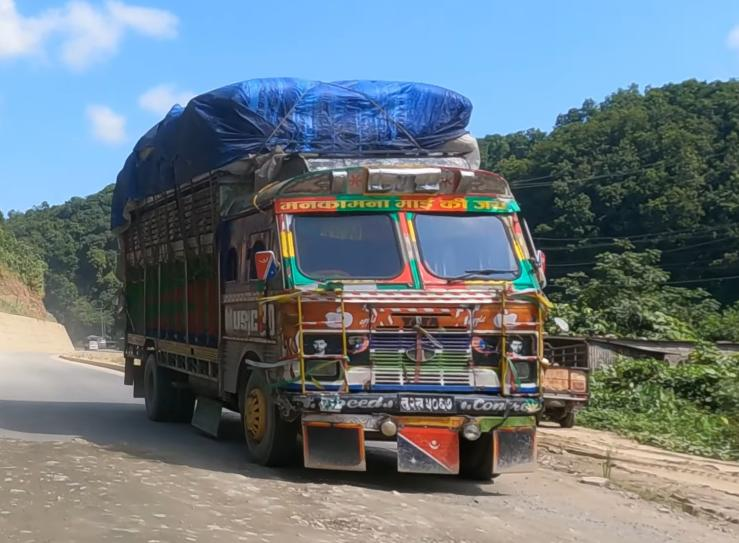truck: (110, 77, 589, 479)
